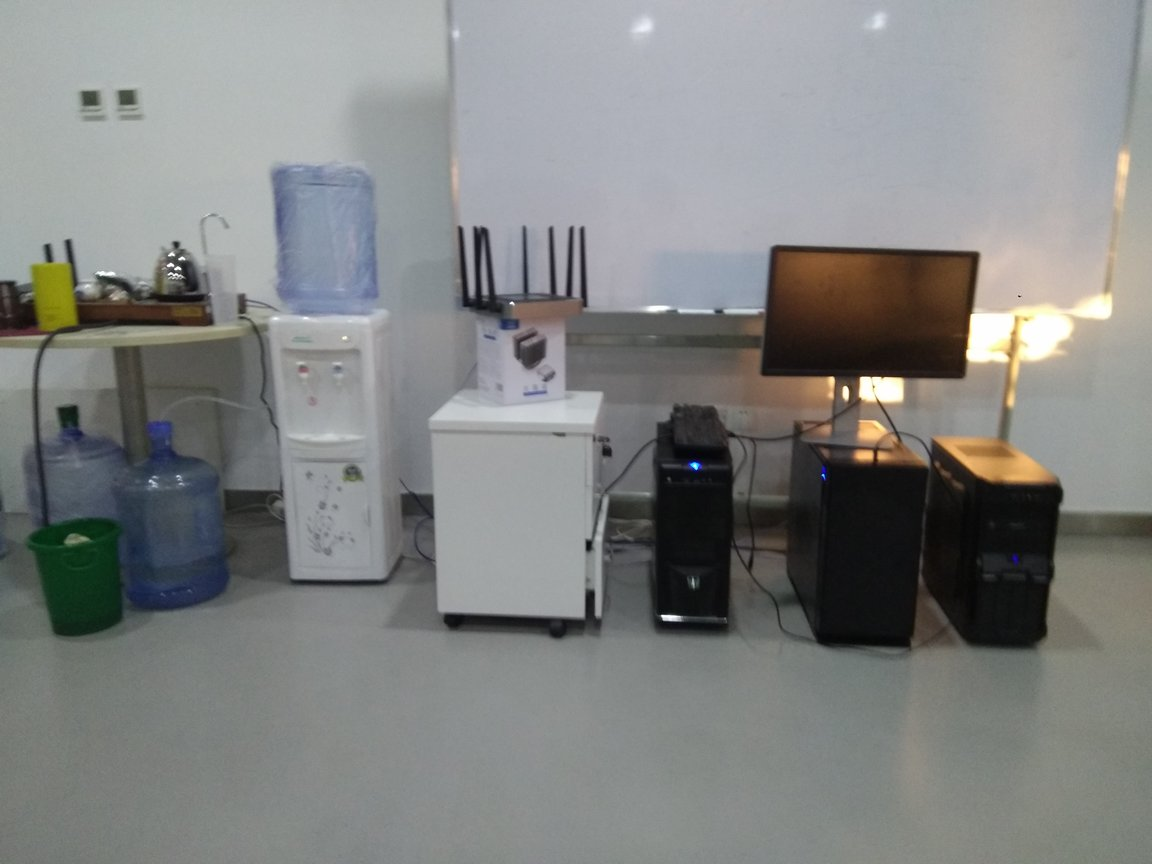computer: (793, 415, 935, 656), (927, 434, 1062, 657), (641, 411, 751, 644)
drawer chest: (431, 382, 616, 639)
monitor: (757, 232, 986, 452)
scuttlebutt: (262, 149, 398, 318), (22, 402, 140, 589), (117, 419, 225, 614)
water dispenser: (255, 305, 400, 592)
